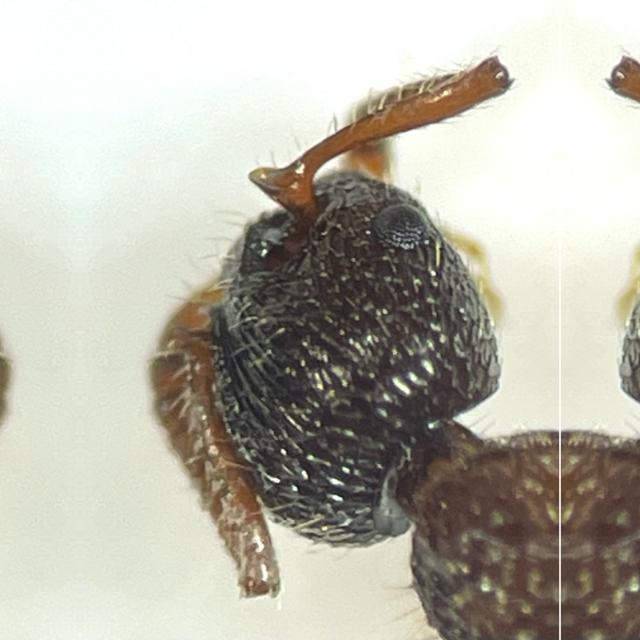Myrmica: (115, 43, 530, 639)
